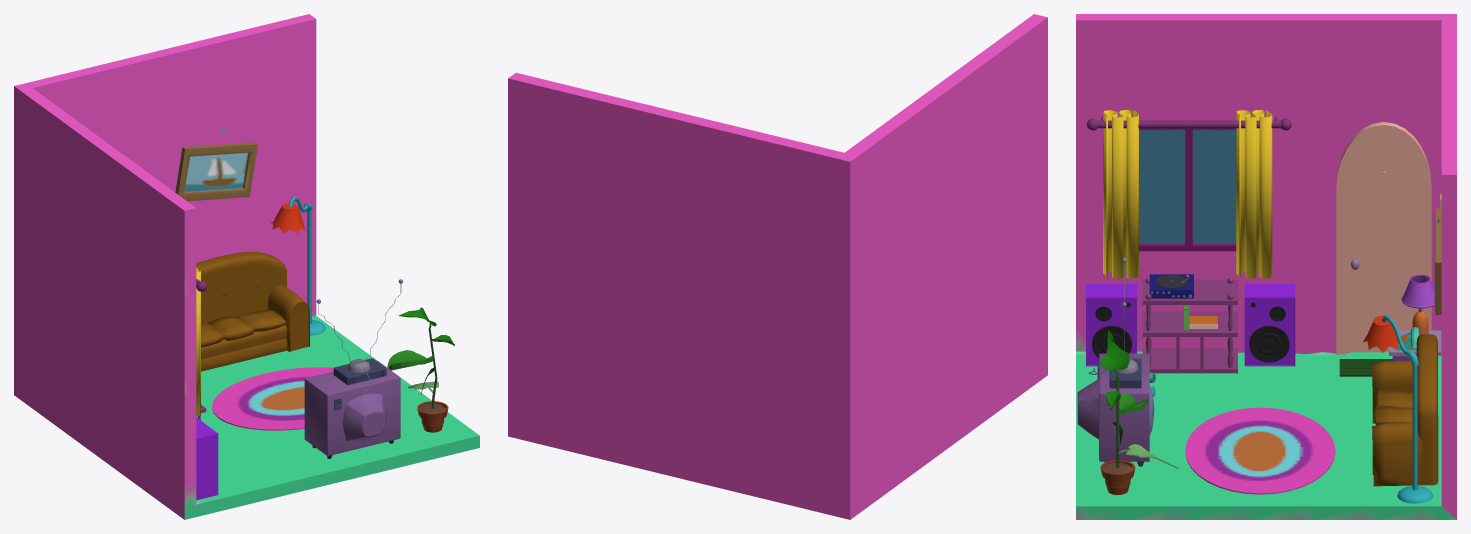
File: Entorno.obj
The picture shows the model from 3 angles, left to right: view 1: azimuth 30°, elevation 25°; view 2: azimuth 150°, elevation 25°; view 3: azimuth 270°, elevation 25°; orthographic projection. The views are drawn at different scales.
Visible parts, largest first — view 1: LivingFBXASC032Room; view 2: LivingFBXASC032Room; view 3: LivingFBXASC032Room.
Boxes of the visible parts, x1=… form: LivingFBXASC032Room: x1=14, y1=14, x2=479, y2=519; LivingFBXASC032Room: x1=508, y1=14, x2=1047, y2=519; LivingFBXASC032Room: x1=1076, y1=14, x2=1456, y2=519.
Size of the model in its own units: 12 by 12 by 12.
1 material, 1 textured.
